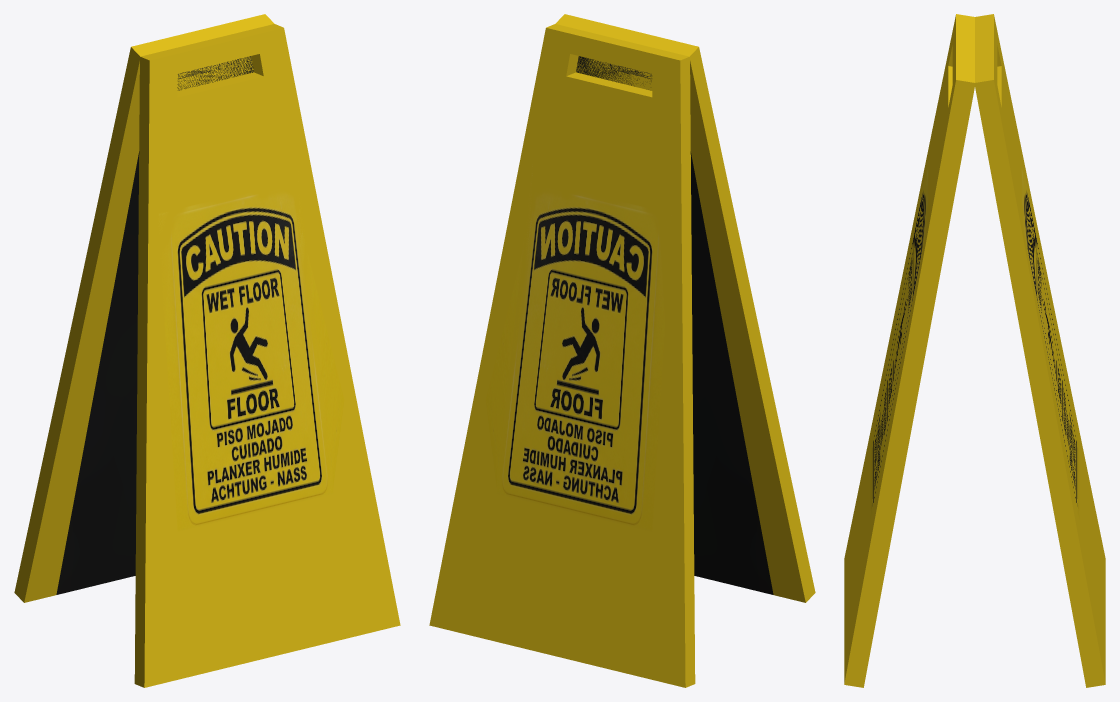
Rendered from wet_floor.fbx.
The picture shows the model from 3 angles, left to right: view 1: azimuth 30°, elevation 25°; view 2: azimuth 150°, elevation 25°; view 3: azimuth 270°, elevation 25°; orthographic projection.
Visible parts, largest first — view 1: Cube; view 2: Cube; view 3: Cube.
Part boxes in pixels (bbox=[...]): Cube: bbox=[14, 14, 400, 687]; Cube: bbox=[429, 14, 815, 687]; Cube: bbox=[844, 14, 1105, 687].
Bounding box in the file's own units: 30 × 64.36 × 26.38.
1 material, 1 textured.
